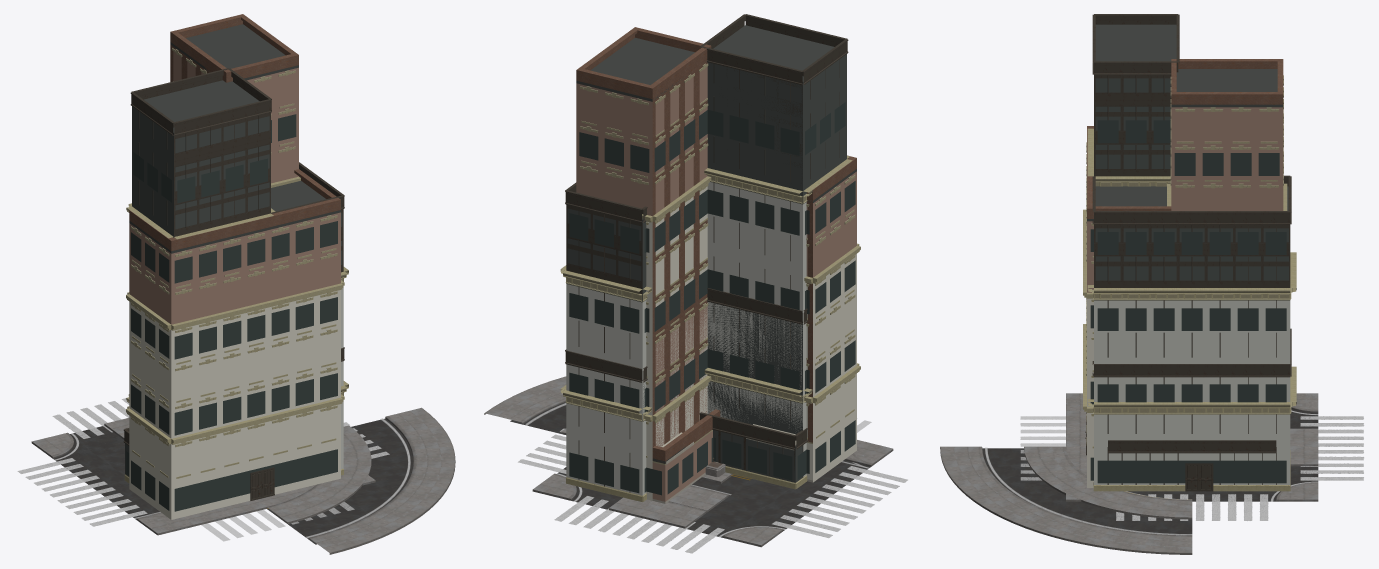
Rendered from downtown.glb.
3 renders of one model, left to right at view 1: azimuth 30°, elevation 25°; view 2: azimuth 150°, elevation 25°; view 3: azimuth 270°, elevation 25°, orthographic. The views are drawn at different scales.
Parts seen in each view (by area): view 1: Building_4_0_far, Building_5_0_far, Building_5_0_near, Building_5_1_near, Street_Curve_4LaneShort.001, Building_5_1_far, Street_TIntersection.001, Street_4WayIntersection.001, Street_Curve_2Lane.001, Building_4_0_near, Building_2_0_near, Building_3_0_far (+3 smaller); view 2: Building_4_1_far, Building_5_1_far, Building_5_0_far, Building_5_0_near, Building_4_0_far, Building_5_1_near, Street_4WayIntersection.001, Street_TIntersection.001, Building_3_1_far, Building_4_1_near, Building_0_1_far, Building_3_1_near (+13 smaller); view 3: Building_4_1_far, Building_5_1_near, Building_5_1_far, Building_5_0_far, Street_Curve_4LaneShort.001, Building_5_0_near, Street_4WayIntersection.001, Street_TIntersection.001, Street_Curve_2Lane.001, Building_4_1_near, Building_3_1_near, Building_0_1_near (+6 smaller).
Part boxes in pixels (bbox=[...]): Building_4_0_far: bbox=[129, 290, 340, 519]; Building_5_0_far: bbox=[129, 24, 340, 353]; Building_5_0_near: bbox=[129, 14, 340, 500]; Building_5_1_near: bbox=[130, 68, 344, 475]; Street_Curve_4LaneShort.001: bbox=[267, 407, 455, 554]; Building_5_1_far: bbox=[132, 106, 342, 264]; Street_TIntersection.001: bbox=[18, 398, 388, 535]; Street_4WayIntersection.001: bbox=[18, 398, 389, 541]; Street_Curve_2Lane.001: bbox=[267, 425, 371, 523]; Building_4_0_near: bbox=[126, 176, 344, 499]; Building_2_0_near: bbox=[126, 394, 344, 499]; Building_3_0_far: bbox=[145, 379, 313, 429]; Building_4_1_far: bbox=[566, 181, 806, 495]; Building_5_1_far: bbox=[567, 54, 846, 327]; Building_5_0_far: bbox=[576, 37, 856, 389]; Building_5_0_near: bbox=[576, 27, 856, 482]; Building_4_0_far: bbox=[646, 186, 856, 500]; Building_5_1_near: bbox=[565, 14, 848, 501]; Street_4WayIntersection.001: bbox=[518, 420, 907, 553]; Street_TIntersection.001: bbox=[519, 428, 907, 552]; Building_3_1_far: bbox=[594, 302, 805, 434]; Building_4_1_near: bbox=[560, 156, 852, 501]; Building_0_1_far: bbox=[713, 430, 805, 482]; Building_3_1_near: bbox=[565, 288, 807, 464]; Building_4_1_far: bbox=[1094, 300, 1290, 484]; Building_5_1_near: bbox=[1092, 14, 1291, 491]; Building_5_1_far: bbox=[1095, 78, 1288, 330]; Building_5_0_far: bbox=[1087, 69, 1283, 292]; Street_Curve_4LaneShort.001: bbox=[940, 446, 1192, 554]; Building_5_0_near: bbox=[1086, 59, 1283, 446]; Street_4WayIntersection.001: bbox=[1020, 393, 1363, 520]; Street_TIntersection.001: bbox=[1066, 393, 1363, 520]; Street_Curve_2Lane.001: bbox=[1024, 446, 1192, 519]; Building_4_1_near: bbox=[1087, 128, 1296, 490]; Building_3_1_near: bbox=[1092, 328, 1291, 491]; Building_0_1_near: bbox=[1108, 440, 1276, 491].
Size of the model in its own units: 30.33 by 31.15 by 30.33.
Materials: 17 (8 with a texture image).
